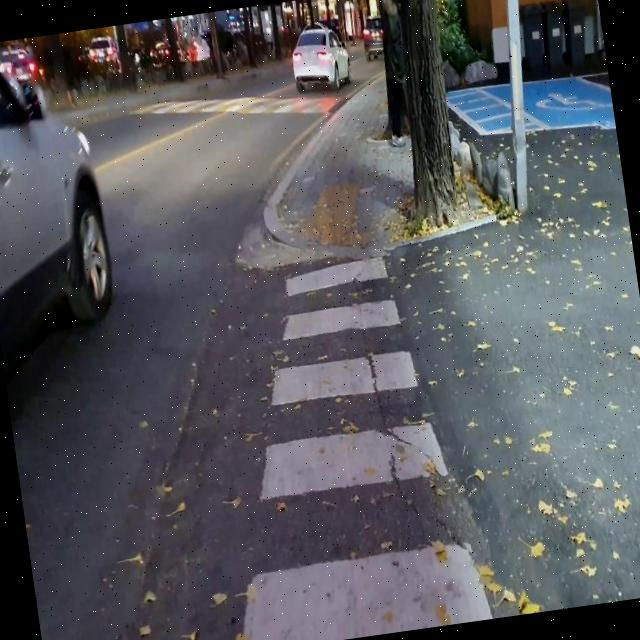crosswalk: (240, 254, 498, 640)
